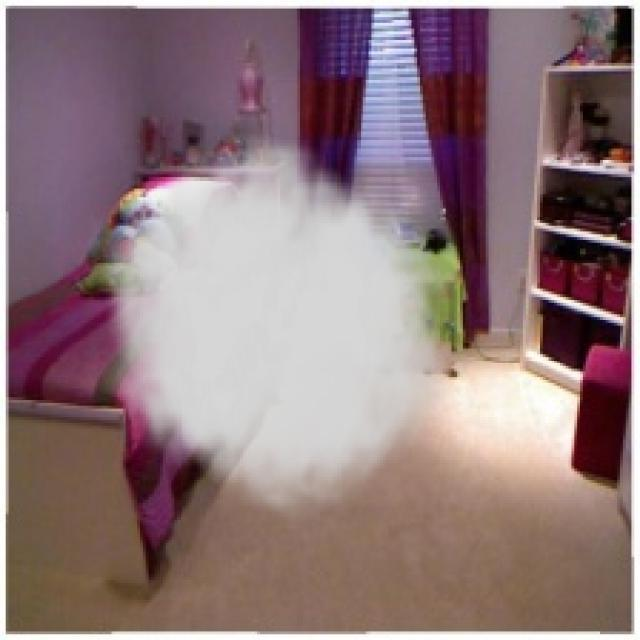Smoke: (86, 122, 454, 528)
